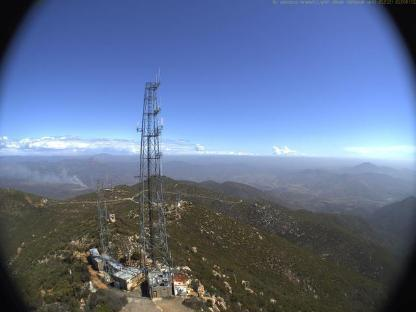smoke: (1, 160, 93, 190)
